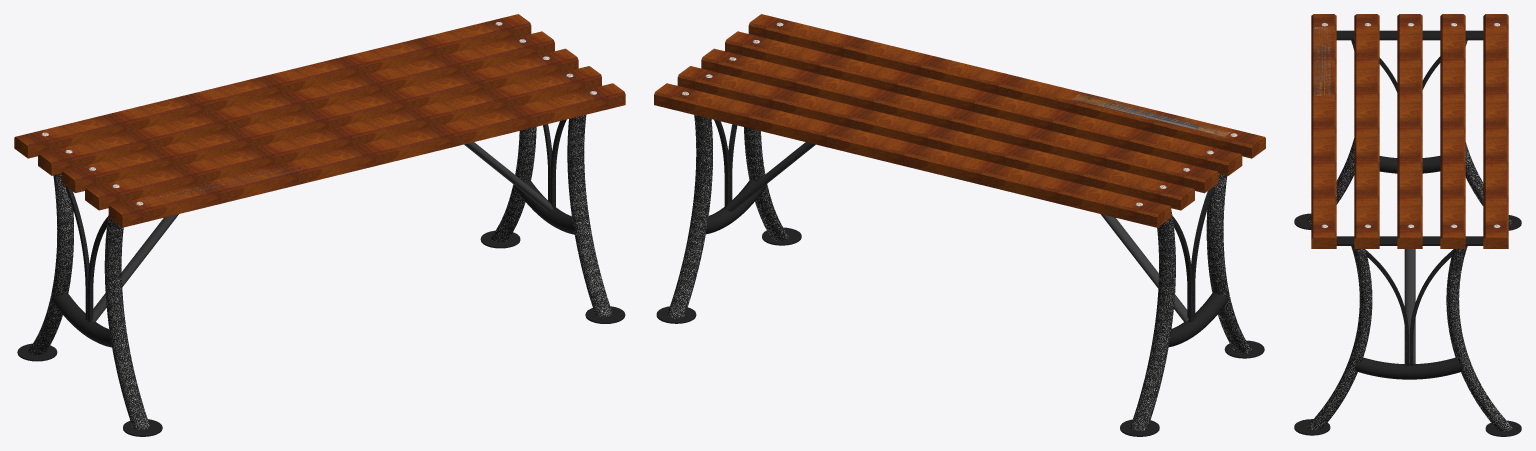
3 renders of one model, left to right at view 1: azimuth 30°, elevation 25°; view 2: azimuth 150°, elevation 25°; view 3: azimuth 270°, elevation 25°, orthographic. The views are drawn at different scales.
Visible parts, largest first — view 1: mesh1_mesh1-geometry, mesh15_mesh15-geometry, mesh18_mesh18-geometry, mesh21_mesh21-geometry, mesh10_mesh10-geometry, mesh11_mesh11-geometry, mesh22_mesh22-geometry, mesh32_mesh32-geometry, mesh31_mesh31-geometry; view 2: mesh1_mesh1-geometry, mesh18_mesh18-geometry, mesh15_mesh15-geometry, mesh36_mesh36-geometry, mesh22_mesh22-geometry, mesh10_mesh10-geometry, mesh11_mesh11-geometry, mesh21_mesh21-geometry, mesh32_mesh32-geometry, mesh31_mesh31-geometry; view 3: mesh1_mesh1-geometry, mesh18_mesh18-geometry, mesh15_mesh15-geometry, mesh31_mesh31-geometry, mesh32_mesh32-geometry, mesh36_mesh36-geometry, mesh2_mesh2-geometry, mesh22_mesh22-geometry, mesh23_mesh23-geometry, mesh21_mesh21-geometry, mesh10_mesh10-geometry, mesh28_mesh28-geometry (+1 smaller).
Part boxes in pixels (x1=…): mesh1_mesh1-geometry: x1=14, y1=14, x2=625, y2=227; mesh15_mesh15-geometry: x1=28, y1=115, x2=612, y2=354; mesh18_mesh18-geometry: x1=104, y1=127, x2=536, y2=429; mesh21_mesh21-geometry: x1=65, y1=119, x2=566, y2=320; mesh10_mesh10-geometry: x1=51, y1=293, x2=111, y2=347; mesh11_mesh11-geometry: x1=92, y1=214, x2=178, y2=321; mesh22_mesh22-geometry: x1=88, y1=124, x2=552, y2=322; mesh32_mesh32-geometry: x1=464, y1=142, x2=553, y2=211; mesh31_mesh31-geometry: x1=514, y1=180, x2=574, y2=234; mesh1_mesh1-geometry: x1=654, y1=14, x2=1265, y2=227; mesh18_mesh18-geometry: x1=667, y1=115, x2=1251, y2=353; mesh15_mesh15-geometry: x1=744, y1=127, x2=1175, y2=431; mesh36_mesh36-geometry: x1=1072, y1=93, x2=1230, y2=136; mesh22_mesh22-geometry: x1=714, y1=120, x2=1215, y2=320; mesh10_mesh10-geometry: x1=1168, y1=293, x2=1228, y2=347; mesh11_mesh11-geometry: x1=1100, y1=214, x2=1188, y2=322; mesh21_mesh21-geometry: x1=728, y1=124, x2=1192, y2=321; mesh32_mesh32-geometry: x1=726, y1=142, x2=815, y2=211; mesh31_mesh31-geometry: x1=706, y1=180, x2=765, y2=234; mesh1_mesh1-geometry: x1=1311, y1=14, x2=1508, y2=248; mesh18_mesh18-geometry: x1=1307, y1=40, x2=1512, y2=431; mesh15_mesh15-geometry: x1=1307, y1=40, x2=1512, y2=430; mesh31_mesh31-geometry: x1=1355, y1=357, x2=1463, y2=379; mesh32_mesh32-geometry: x1=1404, y1=249, x2=1415, y2=364; mesh36_mesh36-geometry: x1=1313, y1=27, x2=1331, y2=95; mesh2_mesh2-geometry: x1=1336, y1=30, x2=1483, y2=40; mesh22_mesh22-geometry: x1=1379, y1=57, x2=1453, y2=365; mesh23_mesh23-geometry: x1=1336, y1=236, x2=1483, y2=245; mesh21_mesh21-geometry: x1=1365, y1=56, x2=1440, y2=365; mesh10_mesh10-geometry: x1=1379, y1=156, x2=1440, y2=173; mesh28_mesh28-geometry: x1=1294, y1=419, x2=1330, y2=435.
Bounding box in the file's own units: 0.8571 × 0.3597 × 0.3687.
